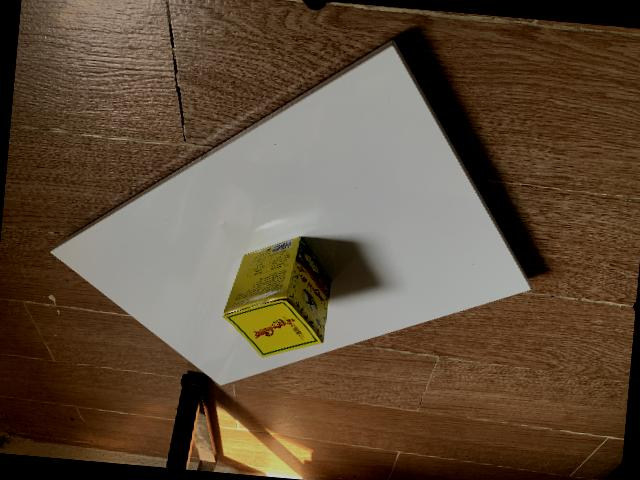luong_kho: (221, 235, 330, 356)
